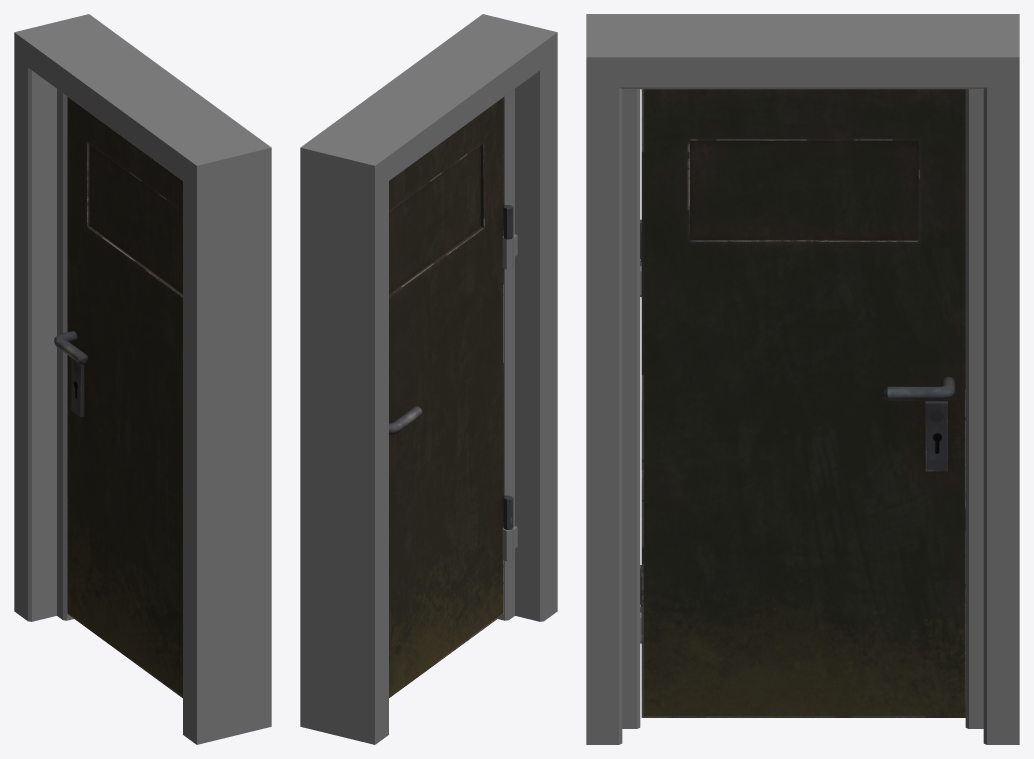
Rendered from porte_entree.glb.
3 views of the same model, side by side, from view 1: azimuth 30°, elevation 25°; view 2: azimuth 150°, elevation 25°; view 3: azimuth 270°, elevation 25° (orthographic). The views are drawn at different scales.
Parts seen in each view (by area): view 1: porte; view 2: porte; view 3: porte.
Boxes of the visible parts, x1,y1,x2,y2 form: porte: (14,14,271,744); porte: (300,14,557,744); porte: (586,14,1019,744).
Size of the model in its own units: 0.2946 by 2.18 by 1.24.
2 materials, 1 textured.
